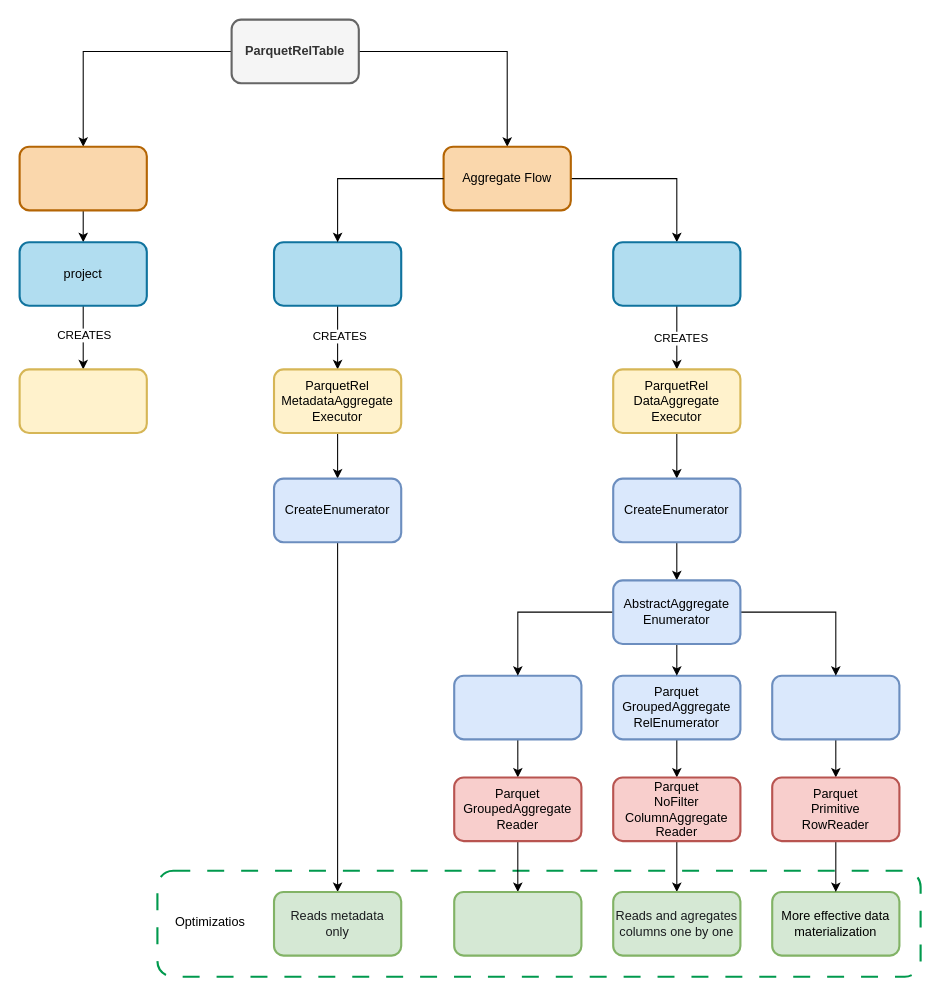
The diagram is 939 pixels wide and 995 high, and some of its shapes have lost their labels. The shapes that lost their labels are listed below. From the top down, each one's centre as x and y in pixels, then its label:
At point (82, 178): "Scan Flow".
At point (337, 273): "metadataAggregate".
At point (676, 273): "dataAggregate".
At point (82, 401): "ParquetRel ProjectExecutor".
At point (517, 707): "ParquetFile GroupedAggregate RelEnumerator".
At point (835, 707): "Parquet Row Aggregate RelEnumerator".
At point (517, 923): "No full row materialization".
